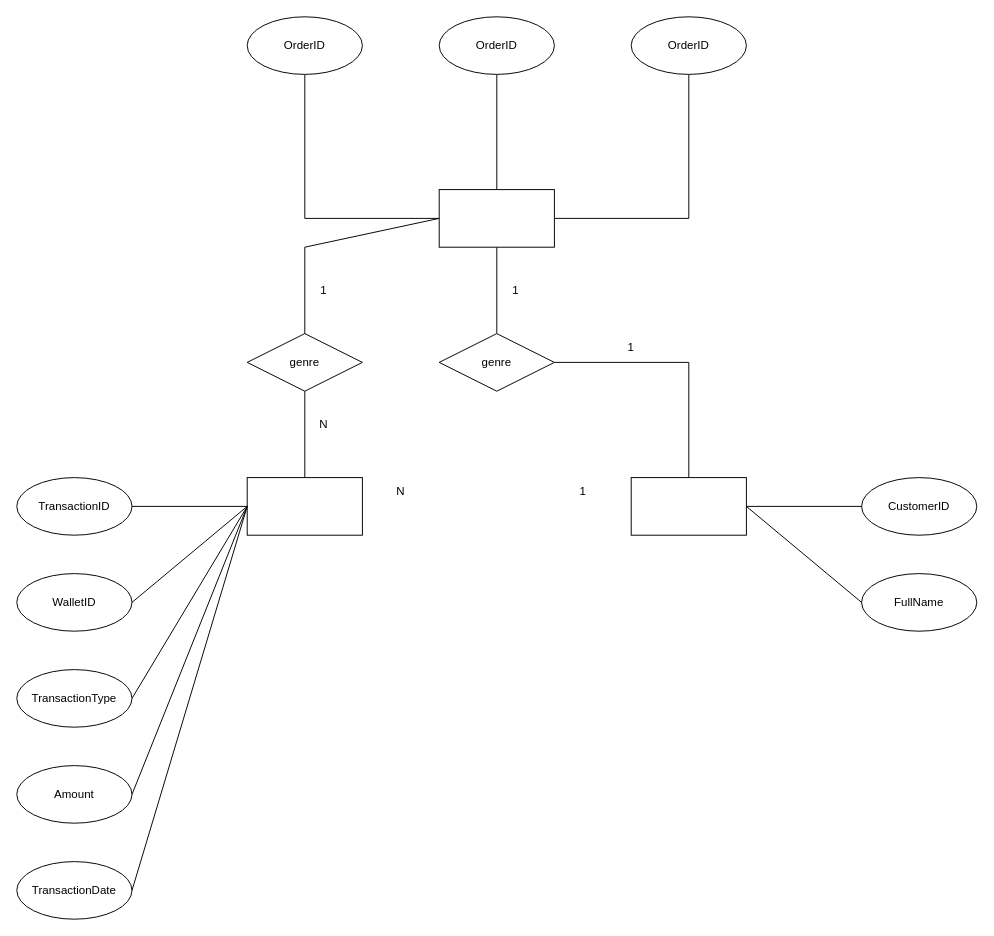
Image size: 994x936. Some labels were removed from this diagram. The centre of each missing label's shape, as x and y in pixels:
"CUSTOMERS" goes at point 688,506.
"TRANSACTIONS" goes at point 304,506.
"WALLETS" goes at point 496,218.
